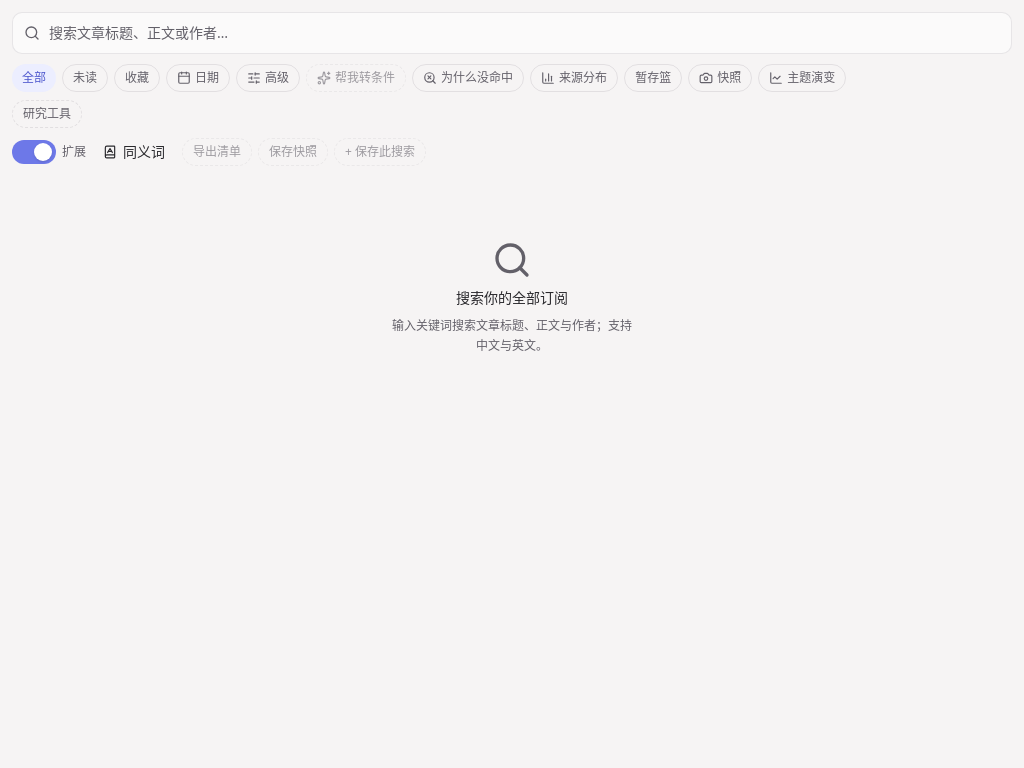
it: N144 按检索范围收藏（SearchPage） › 重新打开视图 → 范围还原：内容类型过滤库腿并显示范围 chips
Type "rust" into the search field labelled "搜索" at (512, 33), box top-left (12, 12), bottom-right (1012, 54)
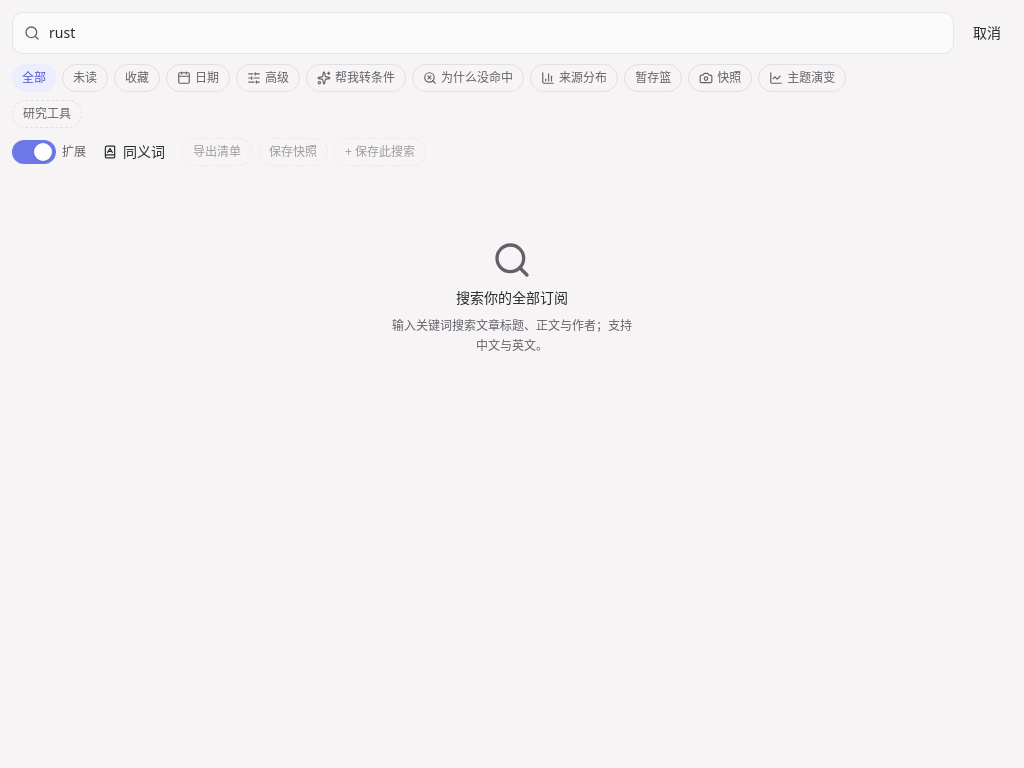
Press Enter in the search field named "搜索", box top-left (12, 12), bottom-right (954, 54)
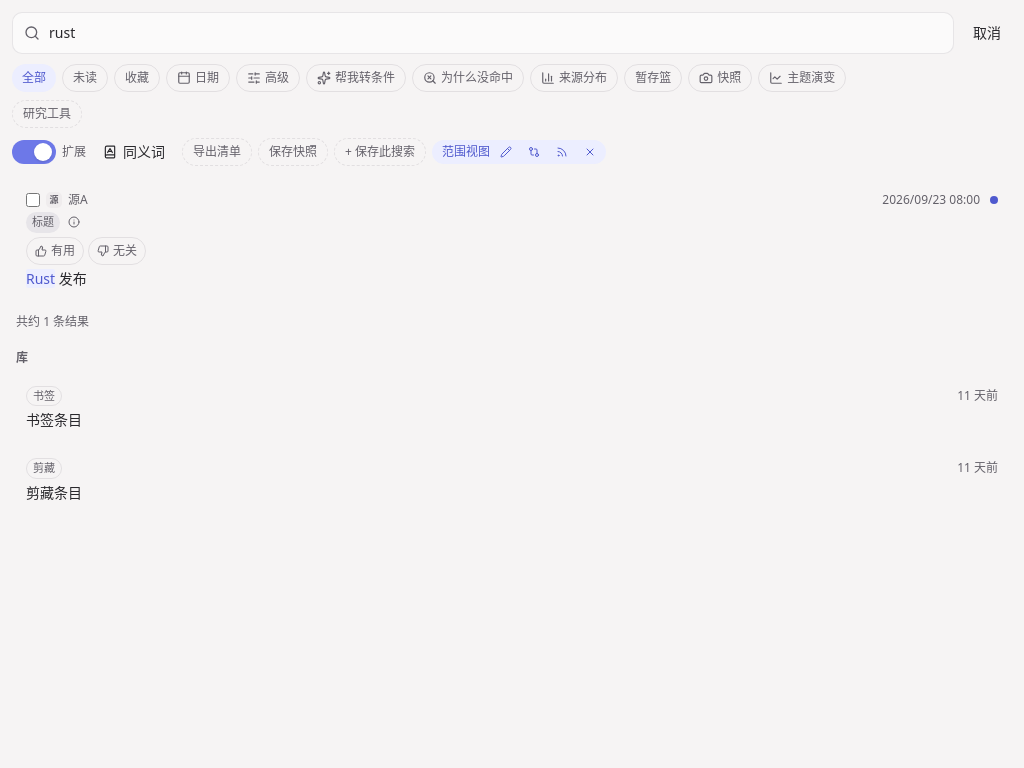
Expected: the button "范围视图" is shown
Click the button "范围视图" at (466, 152), box top-left (442, 140), bottom-right (490, 164)
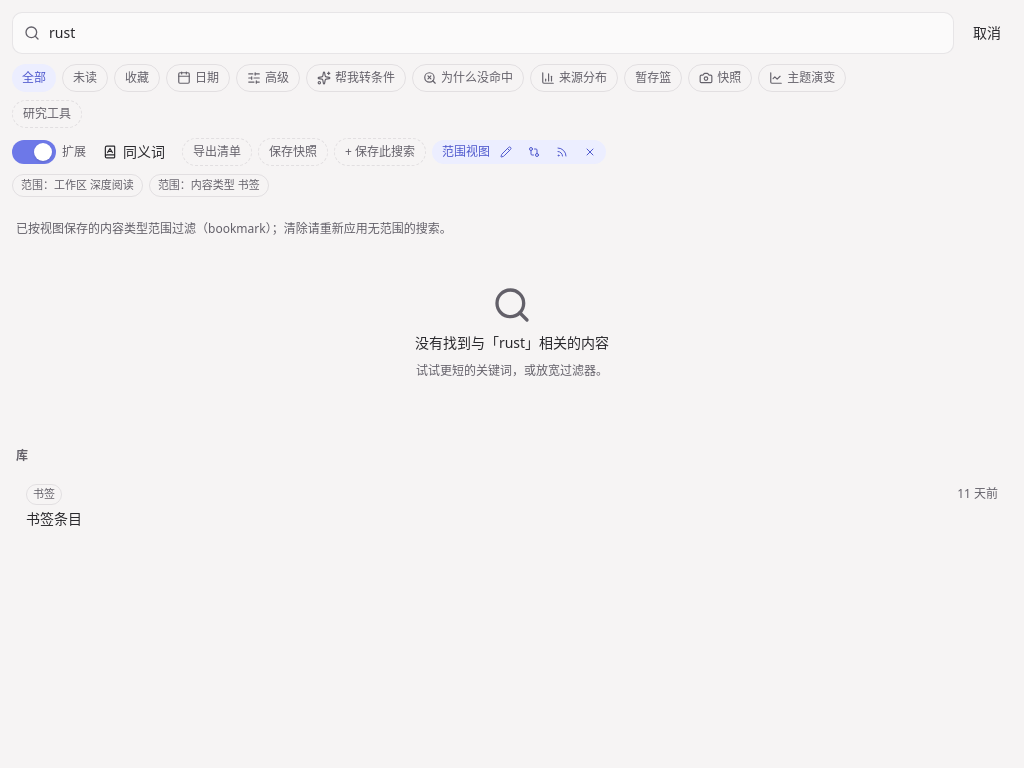
Expected: the element with test id "active-scope" is shown, top-left (12, 174), bottom-right (269, 196)
Expected: the text "范围：工作区 深度阅读" is shown, top-left (12, 174), bottom-right (143, 196)
Expected: the text "范围：内容类型 书签" is shown, top-left (149, 174), bottom-right (269, 196)
